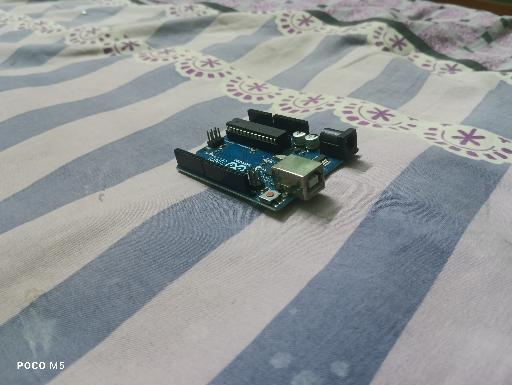Arduino: (174, 108, 360, 213)
